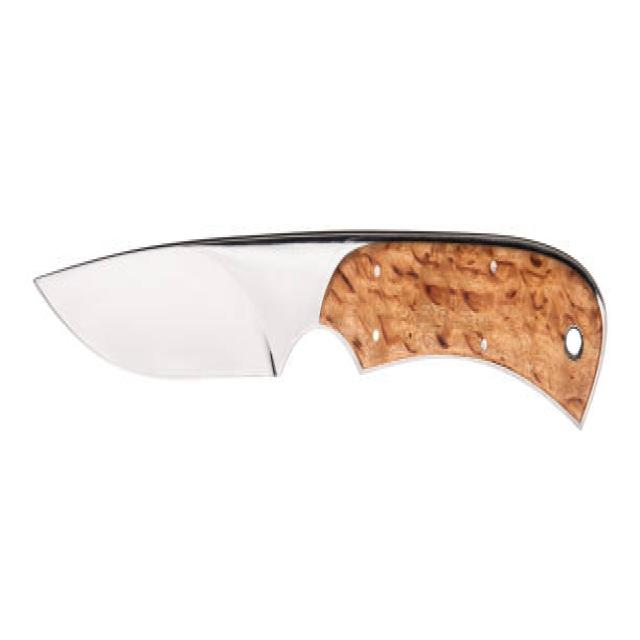knife: (34, 221, 609, 436)
